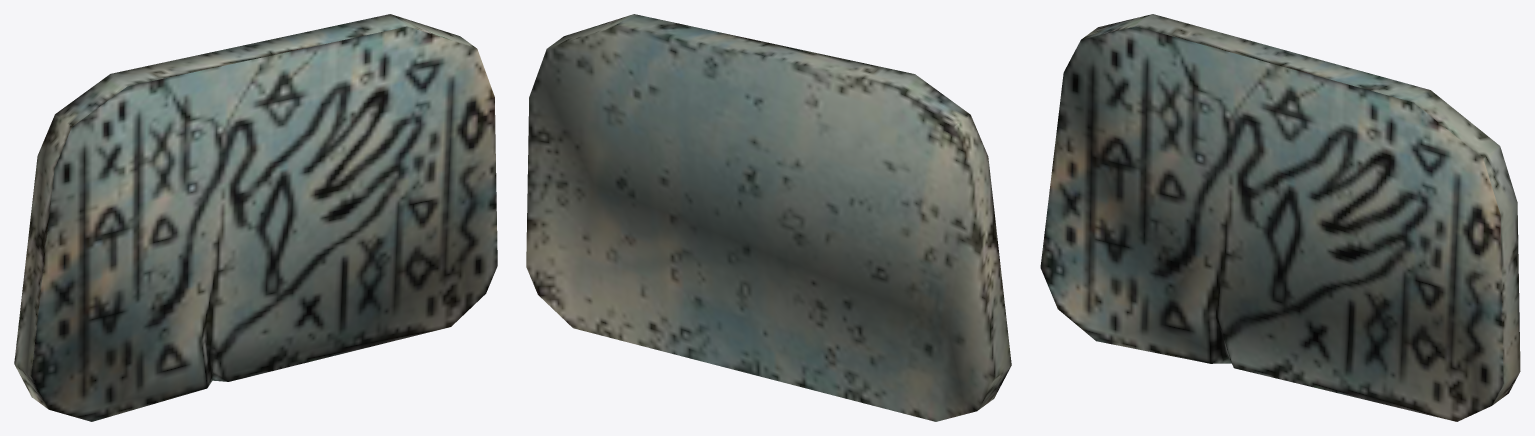
File: Clay_tablet_Blood.fbx
The picture shows the model from 3 angles, left to right: view 1: azimuth 30°, elevation 25°; view 2: azimuth 150°, elevation 25°; view 3: azimuth 330°, elevation 25°; orthographic projection.
Parts seen in each view (by area): view 1: stone.001; view 2: stone.001; view 3: stone.001.
Part boxes in pixels (x1=…): stone.001: x1=14, y1=14, x2=497, y2=421; stone.001: x1=526, y1=14, x2=1011, y2=421; stone.001: x1=1040, y1=14, x2=1520, y2=421.
Size of the model in its own units: 579 by 385 by 41.65.
1 material, 1 textured.
